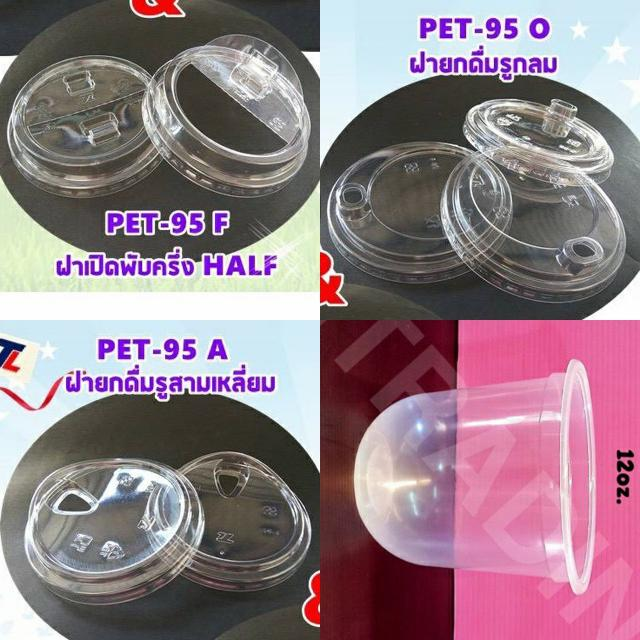Single-Use-Plastic: (355, 360, 595, 591), (441, 152, 626, 302), (144, 35, 310, 198), (25, 459, 204, 604), (8, 55, 160, 198), (328, 142, 471, 283), (180, 451, 311, 591), (462, 99, 614, 184)
